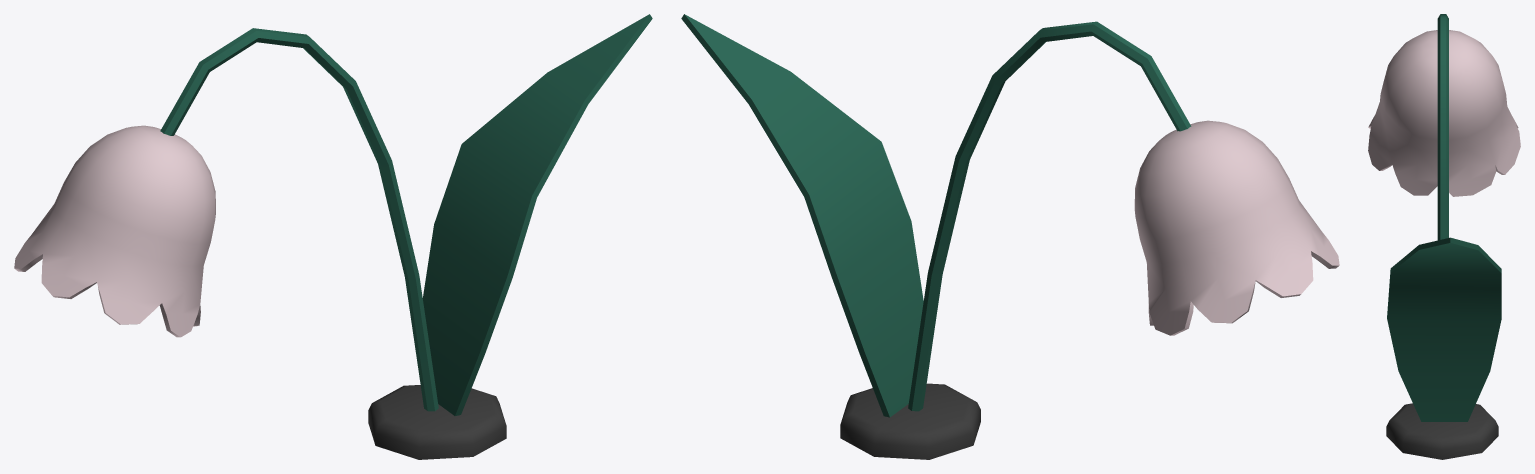
File: lily_light.fbx
The picture shows the model from 3 angles, left to right: view 1: azimuth 30°, elevation 25°; view 2: azimuth 150°, elevation 25°; view 3: azimuth 270°, elevation 25°; orthographic projection. The views are drawn at different scales.
Parts seen in each view (by area): view 1: lily_lamp_base; view 2: lily_lamp_base; view 3: lily_lamp_base.
Part boxes in pixels (<box>): lily_lamp_base: <box>14,14,652,459</box>; lily_lamp_base: <box>681,14,1339,459</box>; lily_lamp_base: <box>1368,14,1520,459</box>.
Bounding box in the file's own units: 0.4273 × 0.2903 × 0.1153.
